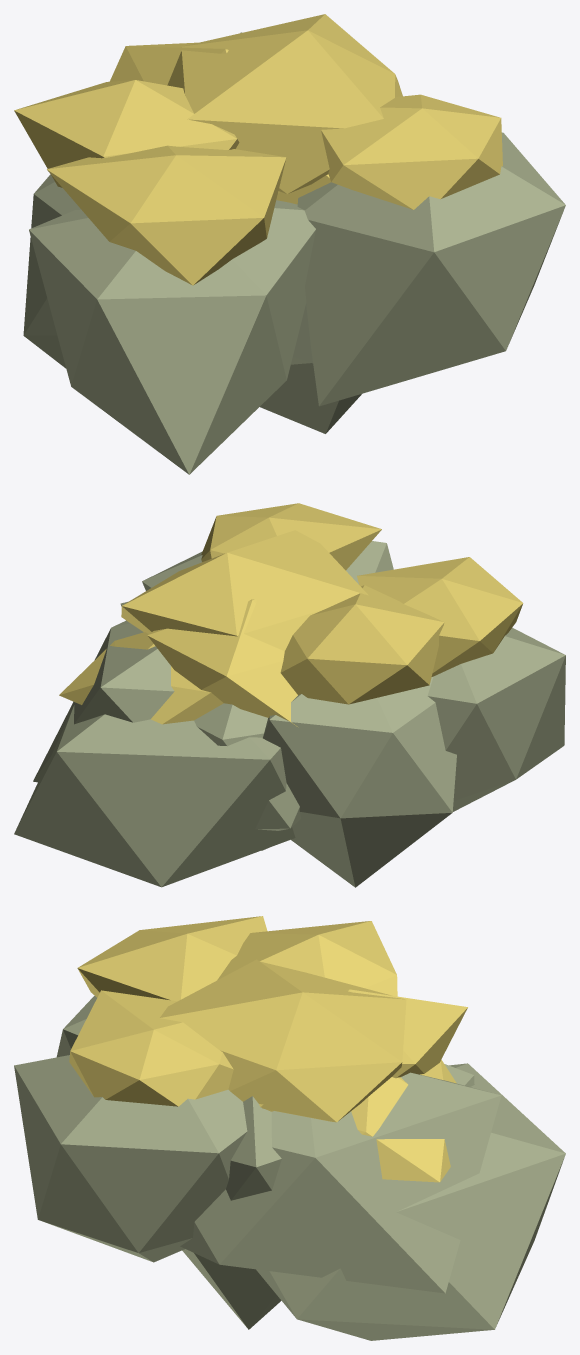
Rendered from Rabbitbrush.glb.
The picture shows the model from 3 angles, top to bottom: view 1: azimuth 30°, elevation 25°; view 2: azimuth 150°, elevation 25°; view 3: azimuth 270°, elevation 25°; orthographic projection. The views are drawn at different scales.
Parts seen in each view (by area): view 1: Shrub clump.011, Shrub clump.009, Bloom.006, Bloom.004, Bloom.002, Bloom, Shrub clump.007, Shrub clump.010, Bloom.001, Shrub clump.013; view 2: Shrub clump.012, Shrub clump.007, Shrub clump.011, Bloom.006, Bloom, Bloom.004, Bloom.001, Shrub clump.013, Bloom.002, Bloom.005, Shrub clump.008, Shrub clump.009; view 3: Shrub clump.013, Shrub clump.009, Shrub clump.012, Bloom.006, Bloom.002, Bloom.004, Bloom, Shrub clump.010, Bloom.005, Bloom.001, Shrub clump.011.
Part boxes in pixels (x1,y1,x2,y2): Shrub clump.011: [29, 200, 315, 474]; Shrub clump.009: [297, 132, 565, 406]; Bloom.006: [167, 14, 402, 193]; Bloom.004: [47, 145, 286, 285]; Bloom.002: [321, 94, 502, 209]; Bloom: [14, 80, 239, 187]; Shrub clump.007: [23, 174, 80, 368]; Shrub clump.010: [260, 357, 361, 433]; Bloom.001: [110, 42, 228, 85]; Shrub clump.013: [240, 32, 312, 363]; Shrub clump.012: [14, 705, 295, 887]; Shrub clump.007: [263, 676, 456, 887]; Shrub clump.011: [427, 627, 565, 811]; Bloom.006: [121, 530, 368, 651]; Bloom: [280, 585, 444, 704]; Bloom.004: [357, 557, 523, 676]; Bloom.001: [147, 599, 297, 726]; Shrub clump.013: [33, 620, 174, 782]; Bloom.002: [201, 503, 381, 570]; Bloom.005: [59, 632, 223, 724]; Shrub clump.008: [194, 703, 300, 830]; Shrub clump.009: [142, 541, 393, 590]; Shrub clump.013: [180, 1072, 501, 1293]; Shrub clump.009: [14, 1055, 247, 1262]; Shrub clump.012: [256, 1063, 565, 1340]; Bloom.006: [160, 959, 406, 1122]; Bloom.002: [69, 990, 233, 1106]; Bloom.004: [77, 916, 267, 1001]; Bloom: [217, 921, 397, 996]; Shrub clump.010: [182, 1096, 281, 1329]; Bloom.005: [351, 1060, 456, 1182]; Bloom.001: [344, 989, 467, 1078]; Shrub clump.011: [56, 995, 96, 1057].
Bounding box in the file's own units: 1.37 × 1.07 × 1.56.
